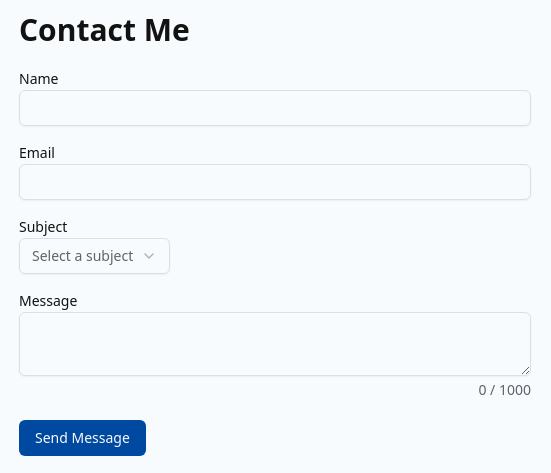
Test: Epic 1 Story 3 — Contact Form: Submission Flow › Loading state › disables the Send Message button immediately when clicked on a valid form
Type "Jane Smith" into the field labelled "Name". click: (275, 108)
box: [19,90,531,126]
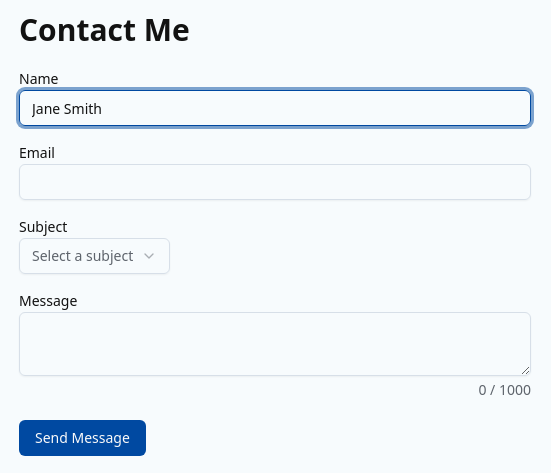
Type "jane@example.com" into the field labelled "Email". click: (275, 182)
box: [19,164,531,200]
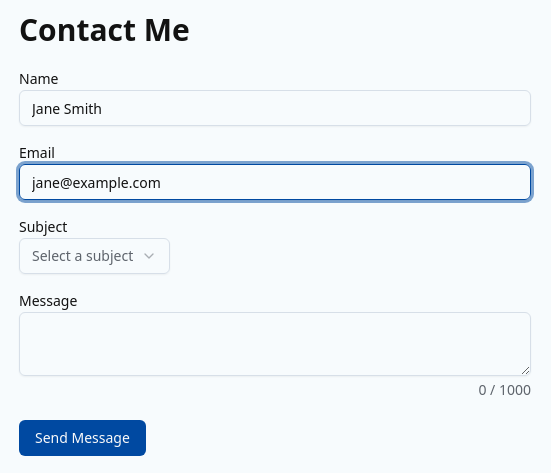
Click the dropdown labelled "Select a subject". click: (95, 256)
box: [19,238,170,274]
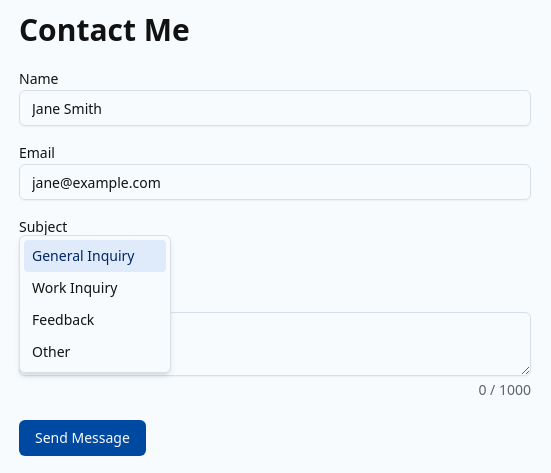
Click the option "General Inquiry". click: (95, 256)
box: [24,240,166,272]
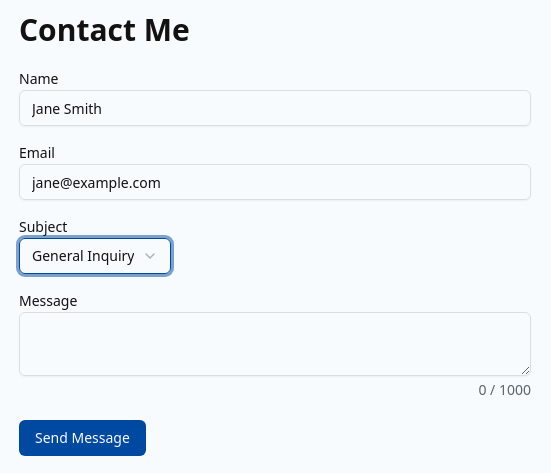
Type "Hello, this is a test message that is long enough." into the text box labelled "Message". click: (275, 344)
box: [19,312,531,376]
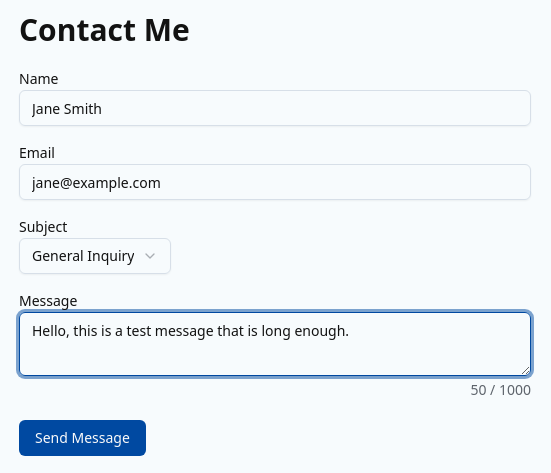
Click the button "Send Message". click: (82, 438)
box: [19,420,146,456]
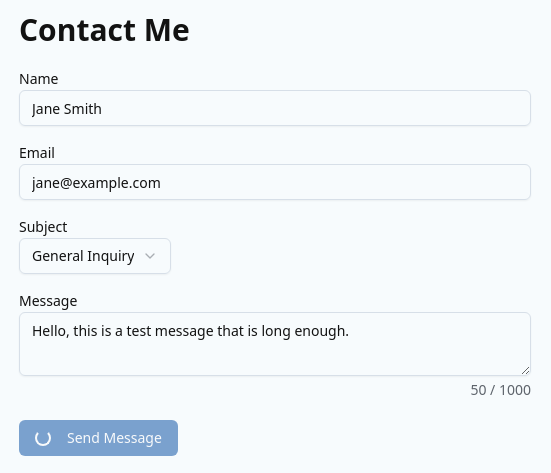
Expected: the button "Send Message" is disabled, [19,420,178,456]
